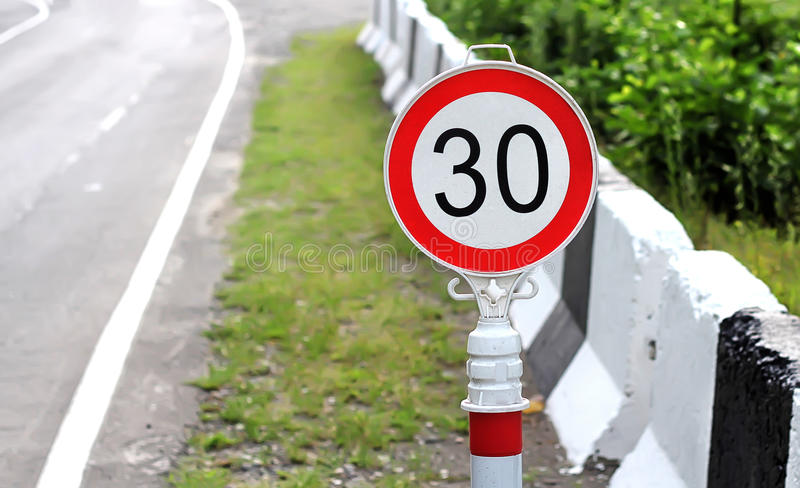30 Km Hiz Siniri: (378, 61, 621, 272)
